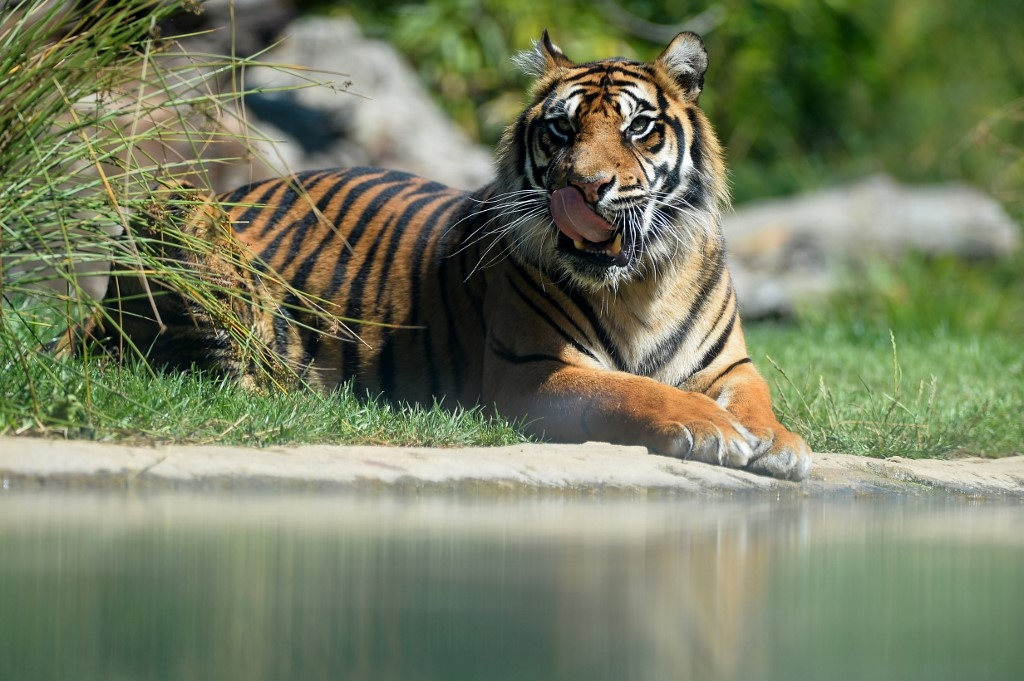Tigrew: (152, 26, 834, 497)
